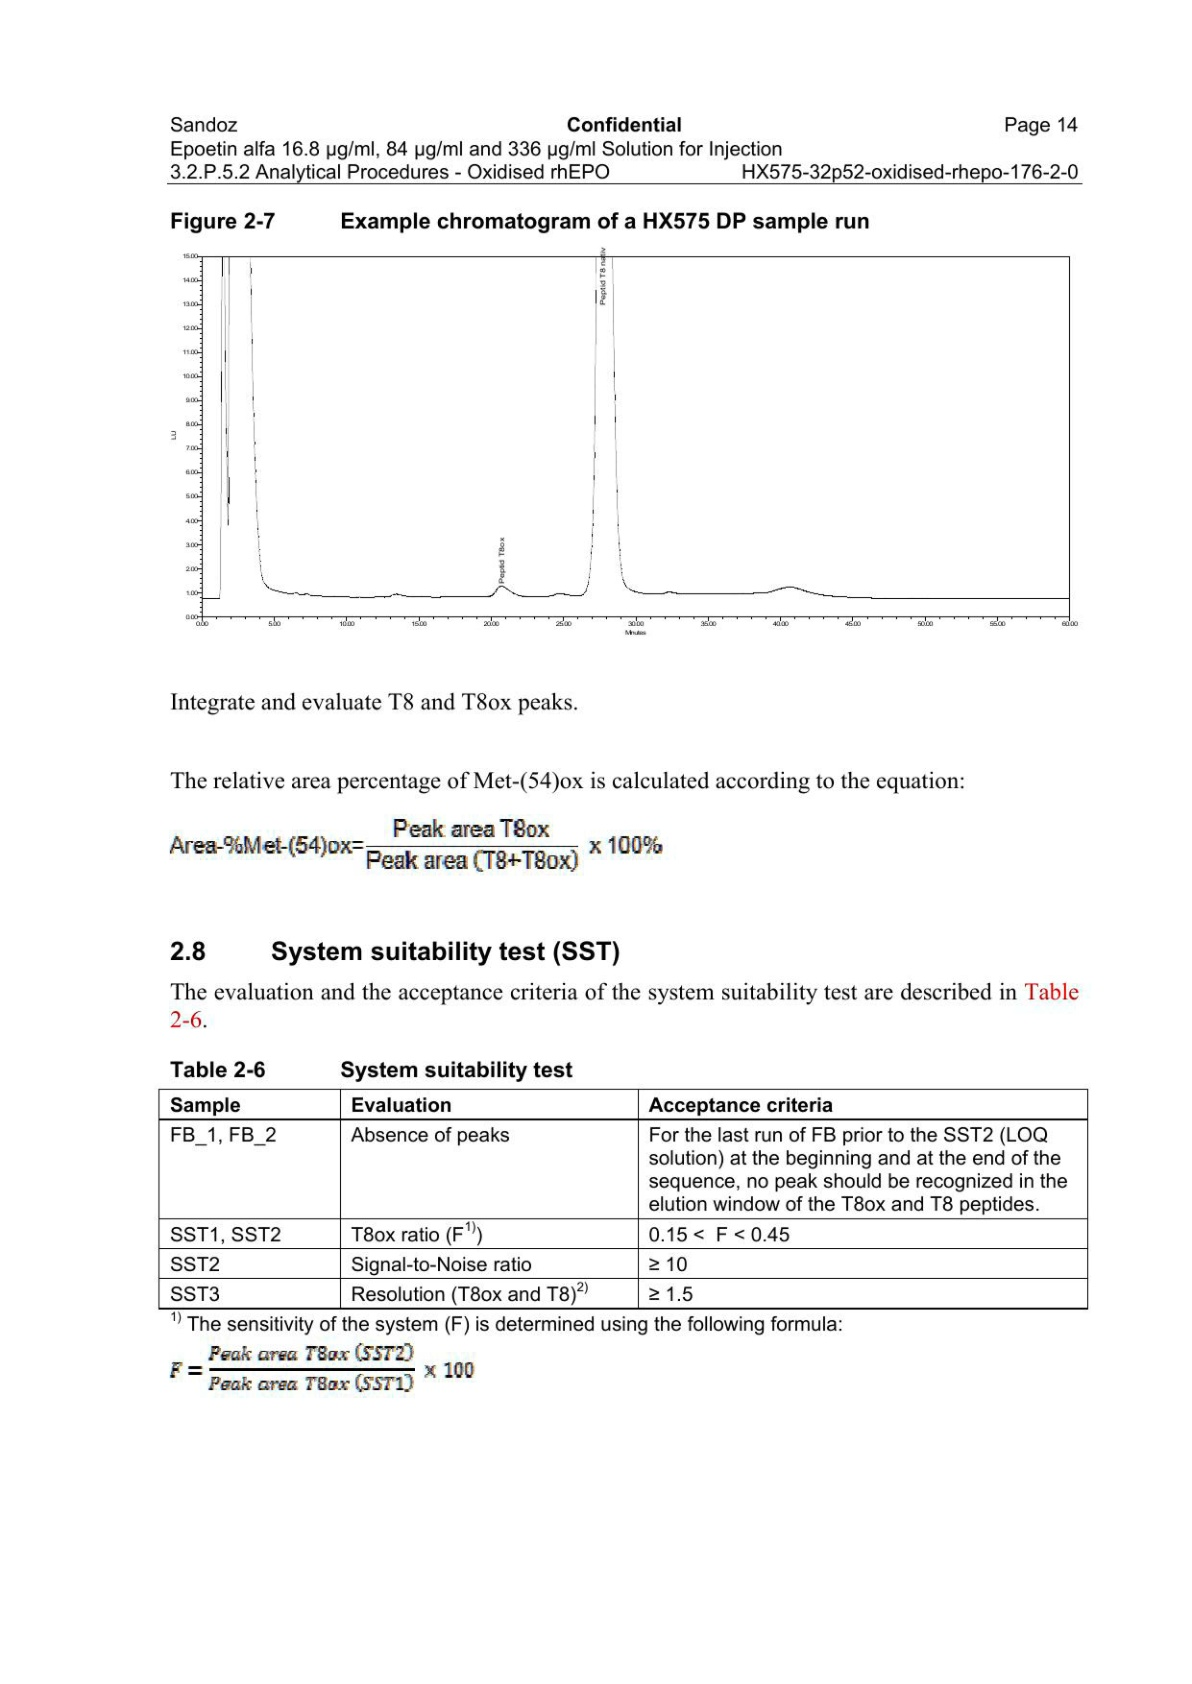full_lined: (157, 1088, 1089, 1311)
